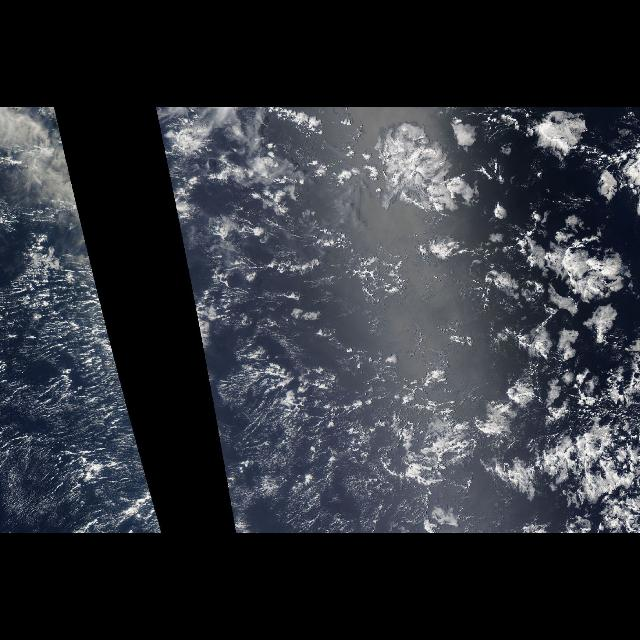Flower: (354, 113, 640, 440)
Sugar: (180, 230, 392, 532), (1, 230, 163, 532)
